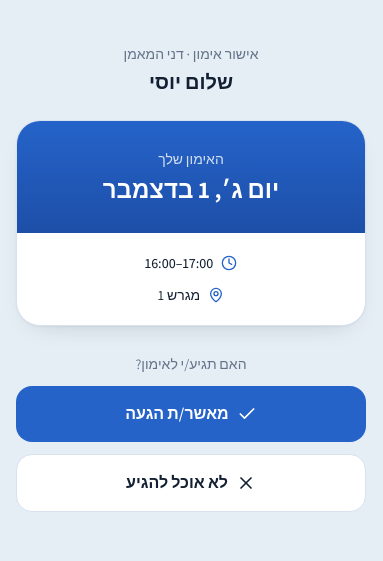
ConfirmPage state machine › declines and never exposes the calendar action
The image size is (383, 561).
Click the button "לא אוכל להגיע" at [191, 483], box [16, 454, 366, 512]
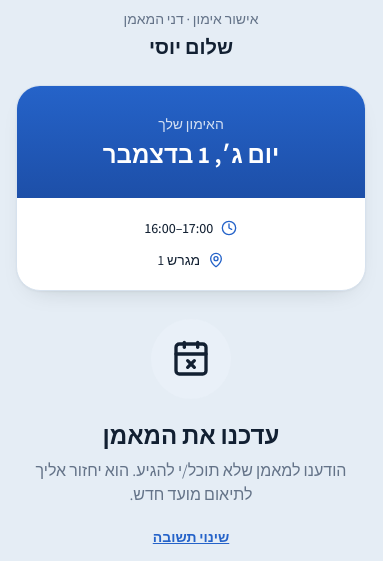
Expected: the heading "עדכנו את המאמן" is shown, [103, 419, 279, 451]
